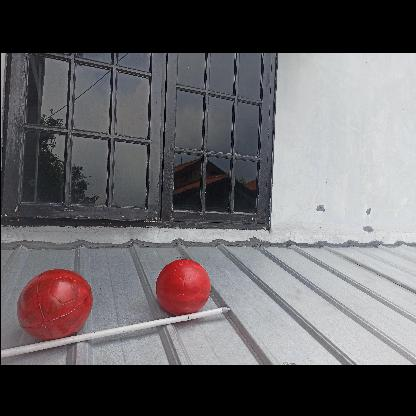red_ball: (20, 268, 92, 340), (156, 258, 212, 312)
